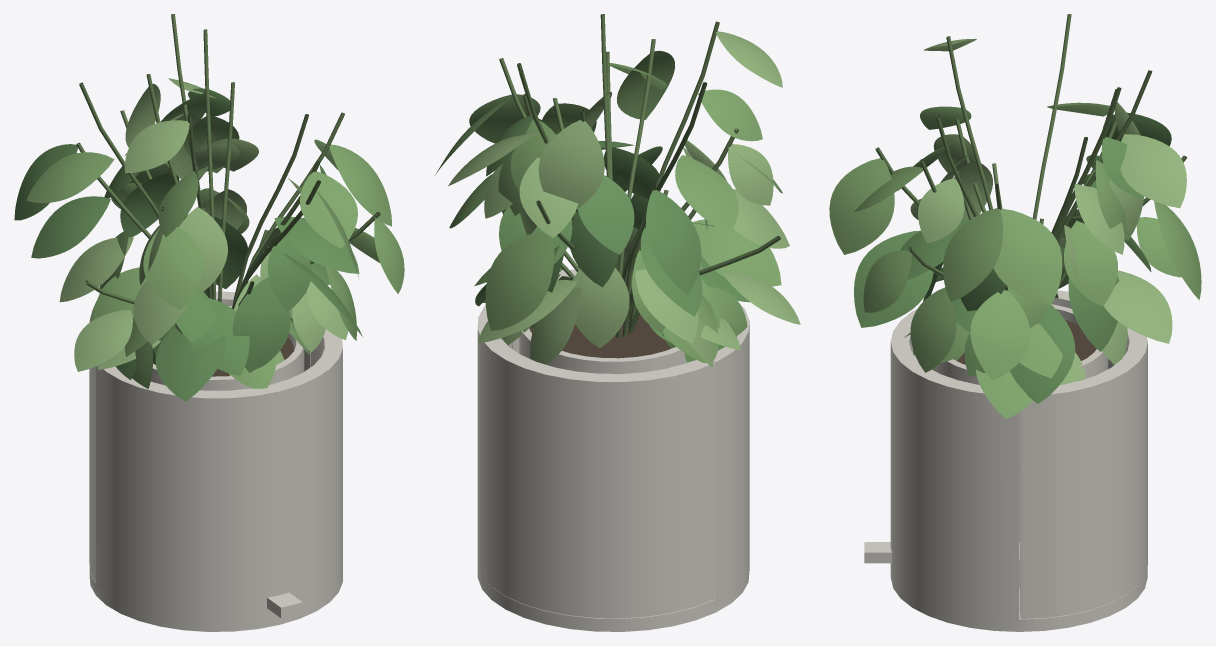
Rendered from pot-ferme.glb.
3 renders of one model, left to right at view 1: azimuth 30°, elevation 25°; view 2: azimuth 150°, elevation 25°; view 3: azimuth 270°, elevation 25°, orthographic. The views are drawn at different scales.
Visible parts, largest first — view 1: Cylinder, feuille.042, feuille.059, feuille.048, feuille.064, feuille.028, feuille.037, feuille.041, feuille.055, feuille.031, feuille.076, feuille.054 (+35 smaller); view 2: Cylinder.001, Cylinder, feuille.027, feuille.022, feuille.030, feuille.021, feuille.037, feuille.051, feuille.023, Cylinder.002, terreau, feuille.024 (+32 smaller); view 3: Cylinder, Cylinder.001, feuille.077, feuille.061, feuille.002, feuille.076, feuille.019, feuille.025, feuille.015, feuille.071, feuille.060, feuille.007 (+29 smaller).
Boxes of the visible parts, left/top/right/bottom form: Cylinder: left=89, top=329, right=342, bottom=631; feuille.042: left=143, top=226, right=203, bottom=309; feuille.059: left=232, top=277, right=290, bottom=372; feuille.048: left=155, top=327, right=225, bottom=401; feuille.064: left=299, top=171, right=357, bottom=248; feuille.028: left=31, top=196, right=110, bottom=258; feuille.037: left=26, top=152, right=114, bottom=202; feuille.041: left=74, top=309, right=132, bottom=371; feuille.055: left=124, top=120, right=189, bottom=172; feuille.031: left=59, top=237, right=133, bottom=301; feuille.076: left=329, top=144, right=391, bottom=226; feuille.054: left=179, top=206, right=227, bottom=291; Cylinder.001: left=477, top=305, right=715, bottom=618; Cylinder: left=477, top=269, right=749, bottom=631; feuille.027: left=485, top=231, right=554, bottom=330; feuille.022: left=538, top=120, right=604, bottom=208; feuille.030: left=646, top=188, right=701, bottom=294; feuille.021: left=572, top=267, right=629, bottom=348; feuille.037: left=675, top=155, right=738, bottom=234; feuille.051: left=692, top=219, right=781, bottom=286; feuille.023: left=578, top=175, right=634, bottom=254; Cylinder.002: left=519, top=328, right=686, bottom=373; terreau: left=530, top=308, right=670, bottom=358; feuille.024: left=530, top=288, right=581, bottom=364; Cylinder: left=890, top=309, right=1147, bottom=631; Cylinder.001: left=1020, top=290, right=1147, bottom=618; feuille.077: left=993, top=208, right=1062, bottom=305; feuille.061: left=829, top=158, right=894, bottom=254; feuille.002: left=970, top=290, right=1030, bottom=380; feuille.076: left=943, top=208, right=1002, bottom=301; feuille.019: left=1120, top=134, right=1186, bottom=207; feuille.025: left=1103, top=270, right=1172, bottom=343; feuille.015: left=1064, top=220, right=1117, bottom=306; feuille.071: left=910, top=287, right=956, bottom=372; feuille.060: left=854, top=230, right=933, bottom=327; feuille.007: left=1010, top=304, right=1075, bottom=403.
Size of the model in its own units: 0.2665 by 0.4047 by 0.2637.
